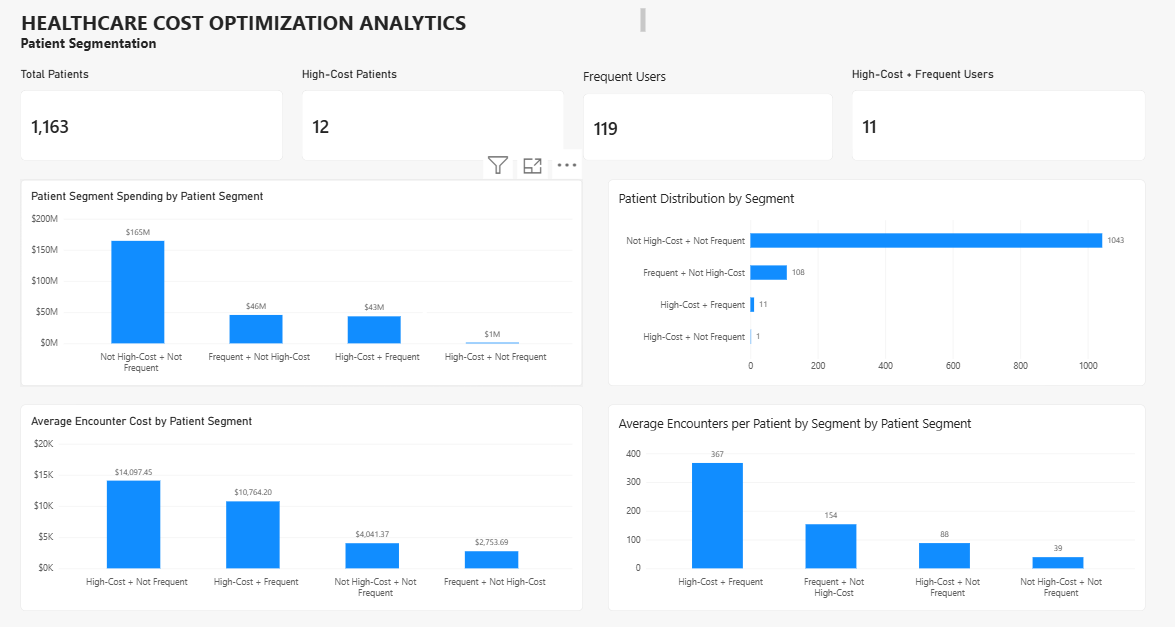

The page's visual inventory and layout, read from the dashboard file:
{"tool":"powerbi","page":{"name":"4. Patient Segmentation","canvas":[1920,1080],"ordinal":3},"visuals":[{"type":"textbox","box":[60,25,1000,40],"z":0},{"type":"textbox","box":[60,65,800,30],"z":1000},{"type":"cardVisual","title":"Total Patients","fields":{"Data":["healthcare_analytical_dataset.Total Patients KPI"]},"box":[60,120,420,150],"z":2000},{"type":"cardVisual","title":"High-Cost Patients","fields":{"Data":["healthcare_analytical_dataset.High-Cost Patients"]},"box":[510,120,420,150],"z":3000},{"type":"cardVisual","title":"Frequent Users","fields":{"Data":["healthcare_analytical_dataset.Frequent Users"]},"box":[960,120,400,150],"z":4000},{"type":"cardVisual","title":"High-Cost + Frequent Users","fields":{"Data":["healthcare_analytical_dataset.High-Cost Frequent Users"]},"box":[1390,120,470,150],"z":5000},{"type":"clusteredColumnChart","fields":{"Category":["Patient Segments.Patient Segment"],"Y":["healthcare_analytical_dataset.Patient Segment Spending"]},"box":[60,300,900,330],"z":6000},{"type":"clusteredBarChart","title":"Patient Distribution by Segment","fields":{"Category":["Patient Segments.Patient Segment"],"Y":["healthcare_analytical_dataset.Patient Segment Count"]},"box":[1000,300,860,330],"z":7000},{"type":"clusteredColumnChart","title":"Average Encounter Cost by Patient Segment","fields":{"Category":["Patient Segments.Patient Segment"],"Y":["healthcare_analytical_dataset.Average Encounter Cost by Segment"]},"box":[60,660,900,330],"z":8000},{"type":"clusteredColumnChart","fields":{"Category":["Patient Segments.Patient Segment"],"Y":["healthcare_analytical_dataset.Average Encounters per Patient by Segment"]},"box":[1000,660,860,330],"z":9000}]}

Visuals, with their boxes on the page's 1920x1080 design canvas (x1, y1, x2, y2). These are canvas units, not pixel positions in the 1175x627 screenshot, which may show the page scaled, cropped or inside an application window:
textbox: (left=60, top=25, right=1060, bottom=65)
textbox: (left=60, top=65, right=860, bottom=95)
"Total Patients" cardVisual: (left=60, top=120, right=480, bottom=270)
"High-Cost Patients" cardVisual: (left=510, top=120, right=930, bottom=270)
"Frequent Users" cardVisual: (left=960, top=120, right=1360, bottom=270)
"High-Cost + Frequent Users" cardVisual: (left=1390, top=120, right=1860, bottom=270)
clusteredColumnChart - Patient Segments.Patient Segment x healthcare_analytical_dataset.Patient Segment Spending: (left=60, top=300, right=960, bottom=630)
"Patient Distribution by Segment" clusteredBarChart: (left=1000, top=300, right=1860, bottom=630)
"Average Encounter Cost by Patient Segment" clusteredColumnChart: (left=60, top=660, right=960, bottom=990)
clusteredColumnChart - Patient Segments.Patient Segment x healthcare_analytical_dataset.Average Encounters per Patient by Segment: (left=1000, top=660, right=1860, bottom=990)
